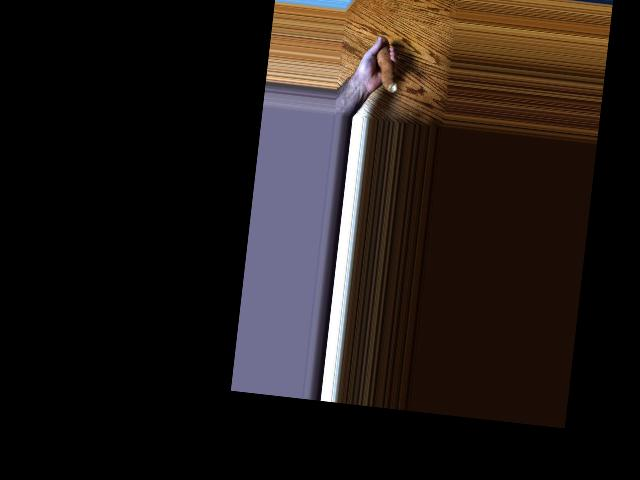sweet_potato: (371, 33, 402, 96)
